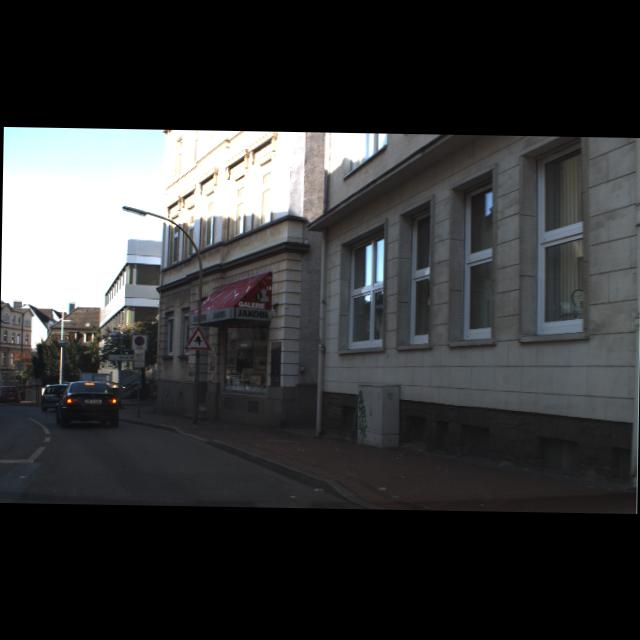danger: (183, 325, 212, 351)
